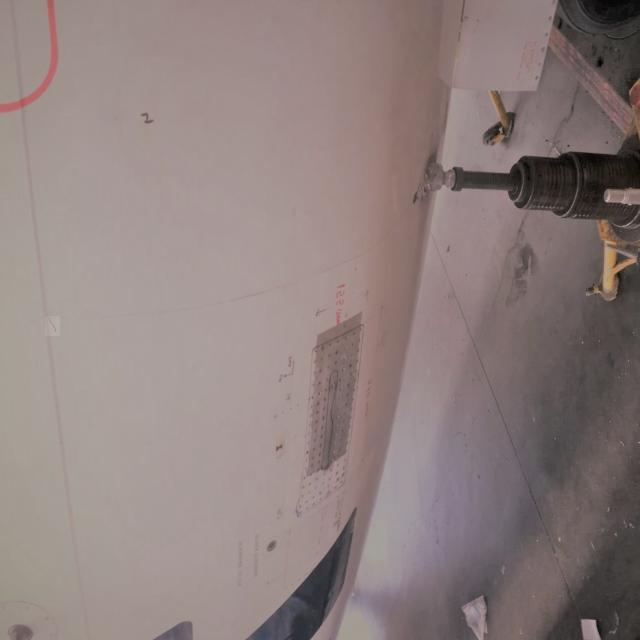crack: (46, 317, 61, 337)
